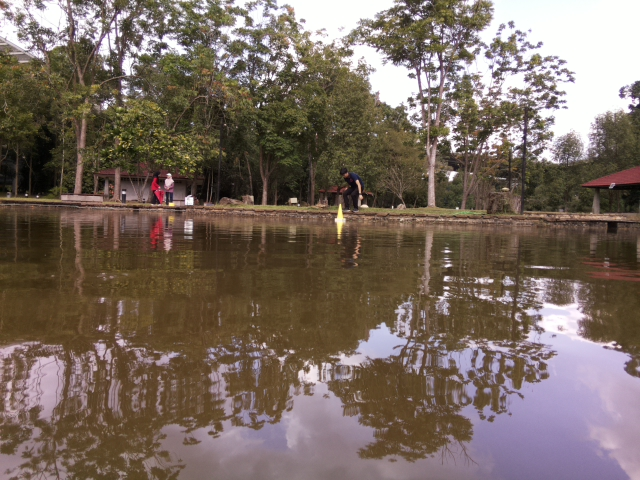checkpoint: (333, 202, 347, 223)
